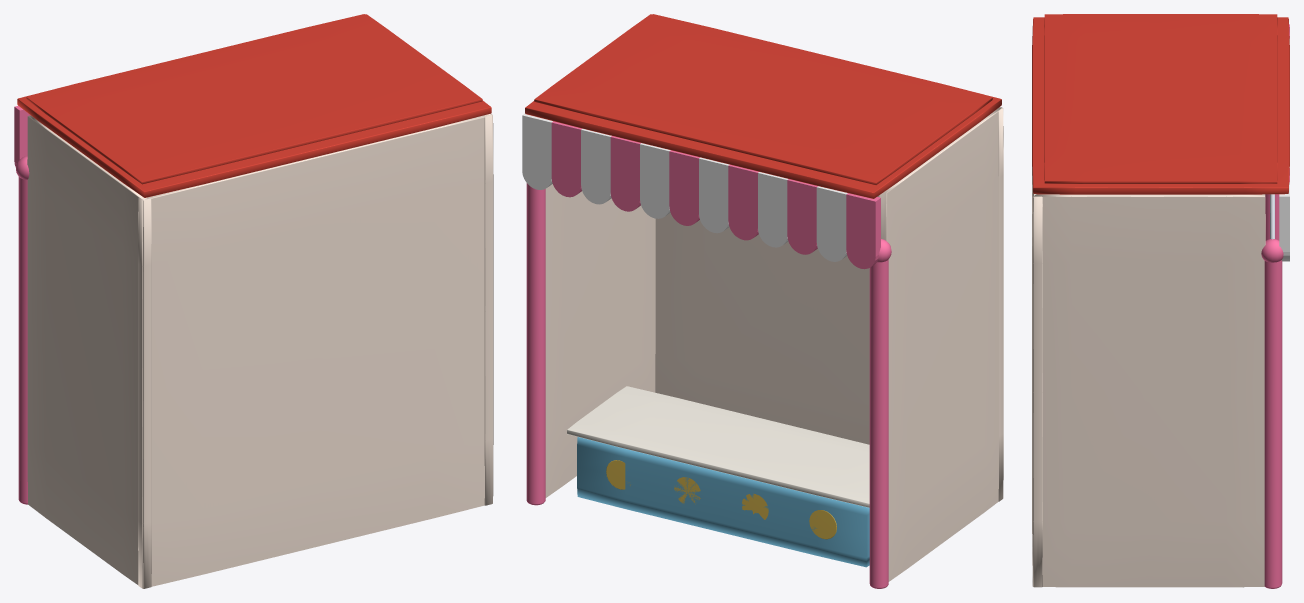
File: MessyMemoryBooth.obj
3 views of the same model, side by side, from view 1: azimuth 30°, elevation 25°; view 2: azimuth 150°, elevation 25°; view 3: azimuth 270°, elevation 25° (orthographic).
Visible parts, largest first — view 1: Wall, Roof, Post, Awning; view 2: Wall, Roof, CounterTop, Counter, Post, Awning, Awning2, Badges; view 3: Wall, Roof, Post, Awning2.
Part boxes in pixels (left/top/right/bottom): Wall: left=27, top=113, right=493, bottom=588; Roof: left=17, top=14, right=491, bottom=197; Post: left=16, top=156, right=29, bottom=504; Awning: left=14, top=105, right=30, bottom=167; Wall: left=545, top=107, right=1003, bottom=581; Roof: left=525, top=14, right=1001, bottom=198; CounterTop: left=567, top=386, right=869, bottom=507; Counter: left=577, top=437, right=869, bottom=567; Post: left=526, top=183, right=891, bottom=588; Awning: left=551, top=121, right=880, bottom=269; Awning2: left=522, top=113, right=847, bottom=261; Badges: left=606, top=460, right=836, bottom=539; Wall: left=1032, top=26, right=1265, bottom=587; Roof: left=1032, top=14, right=1289, bottom=194; Post: left=1261, top=194, right=1283, bottom=588; Awning2: left=1279, top=39, right=1289, bottom=261.
Bounding box in the file's own units: 14.04 × 14.9 × 8.6.
